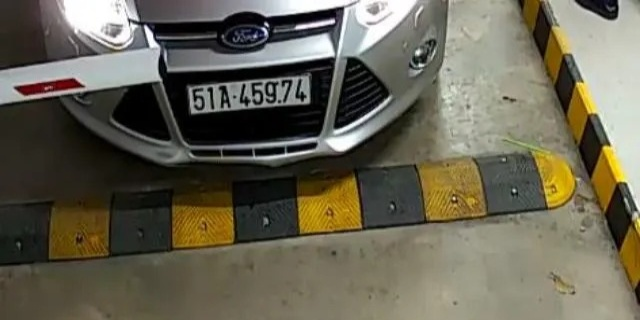bien_so: (189, 77, 310, 111)
